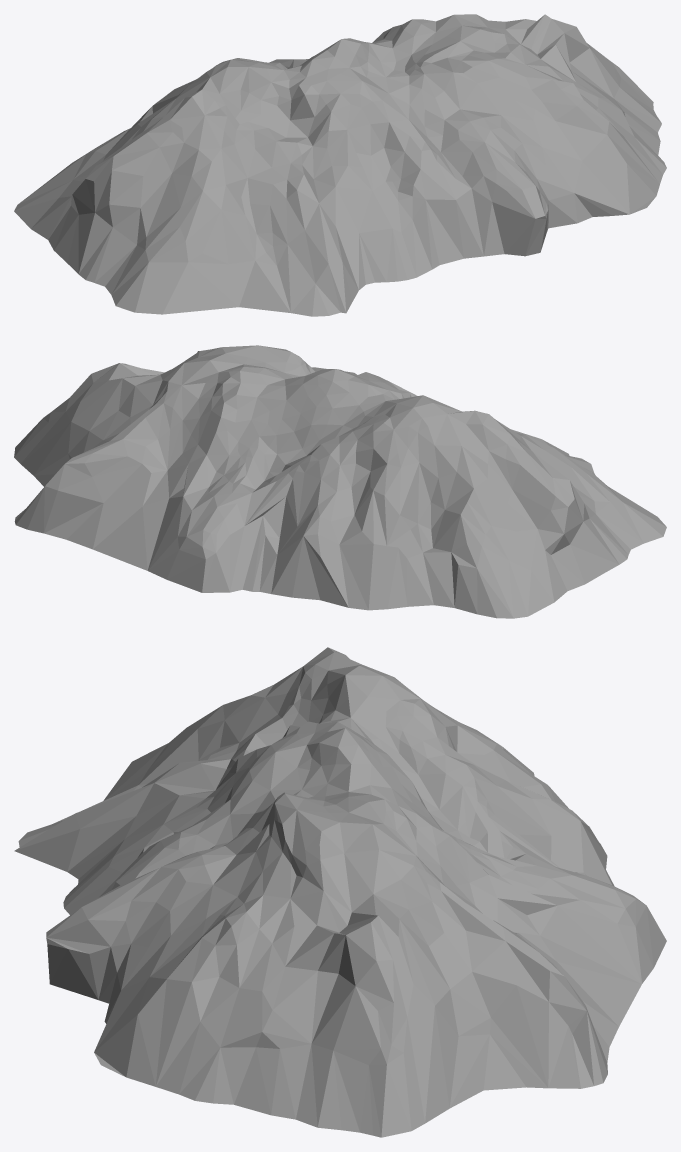
File: Cliff-1.glb
3 views of the same model, one above another, from view 1: azimuth 30°, elevation 25°; view 2: azimuth 150°, elevation 25°; view 3: azimuth 270°, elevation 25° (orthographic). The views are drawn at different scales.
Parts seen in each view (by area): view 1: mountains_002; view 2: mountains_002; view 3: mountains_002.
Boxes of the visible parts, x1,y1,x2,y2 form: mountains_002: (14,14,666,316); mountains_002: (14,345,666,618); mountains_002: (14,647,666,1137).
Size of what is drawn, in the model's own units: 27.98 by 6.66 by 19.65.
Materials: 1 (1 with a texture image).
